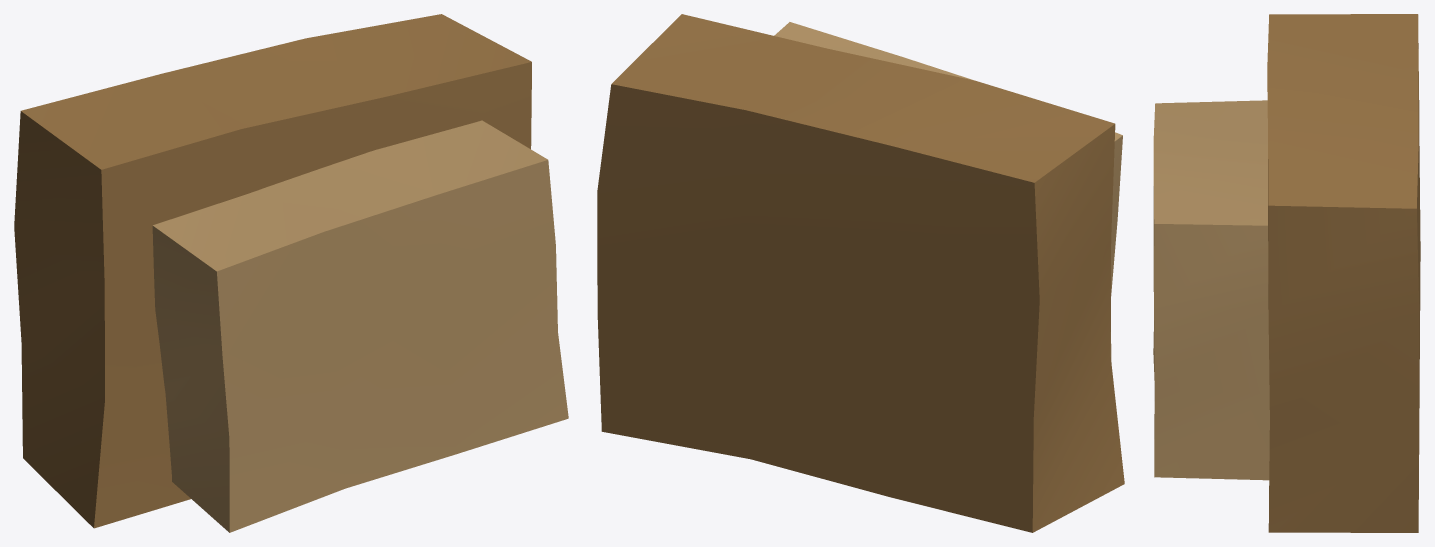
The model's file is block.glb.
3 renders of one model, left to right at view 1: azimuth 30°, elevation 25°; view 2: azimuth 150°, elevation 25°; view 3: azimuth 270°, elevation 25°, orthographic. The views are drawn at different scales.
Parts seen in each view (by area): view 1: BlockMesh; view 2: BlockMesh; view 3: BlockMesh.
Boxes of the visible parts, box(x1,y1,x2,y2) form: BlockMesh: box(14, 14, 568, 532); BlockMesh: box(597, 14, 1124, 532); BlockMesh: box(1153, 14, 1420, 532).
Size of the model in its own units: 1.77 by 1.39 by 1.
